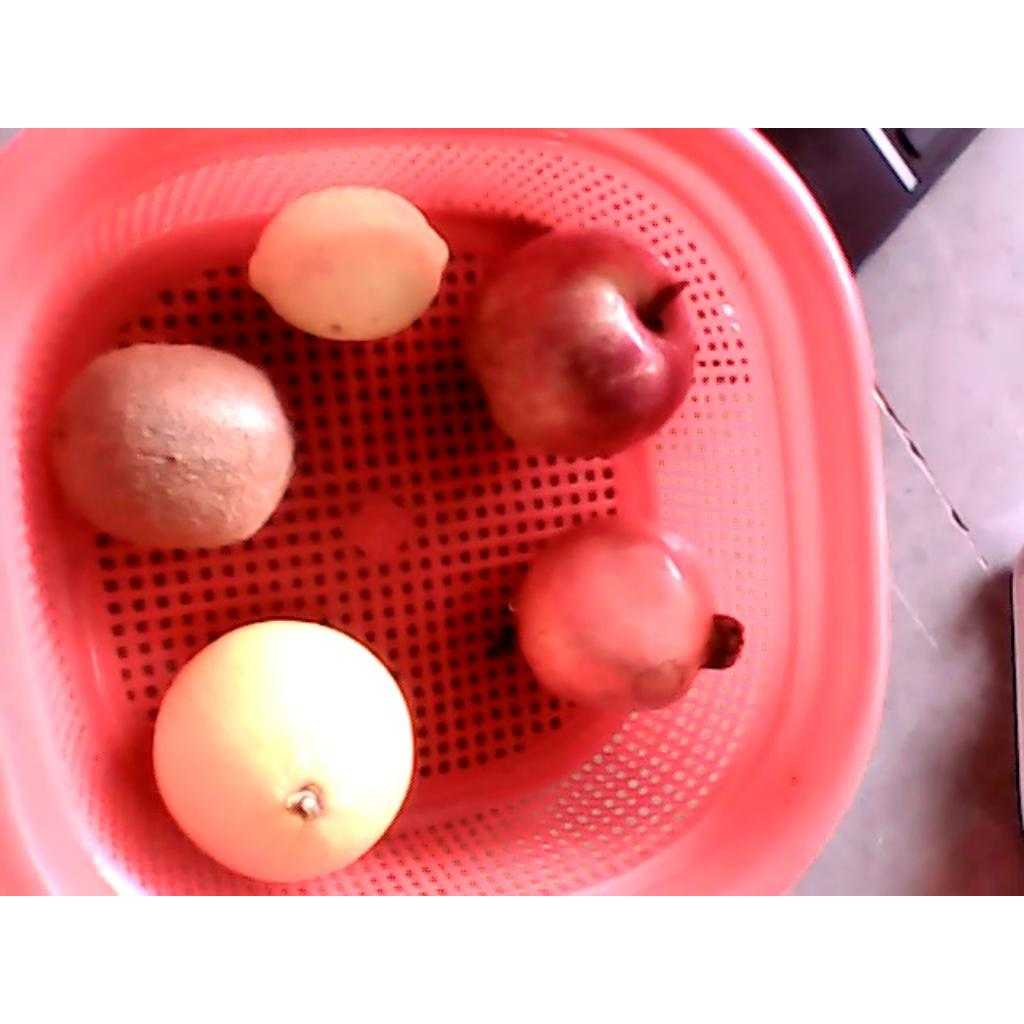apple: (454, 228, 698, 459)
kiwi: (37, 342, 298, 550)
lemon: (247, 184, 449, 341)
orange: (152, 619, 416, 884)
pomegranate: (508, 519, 744, 715)
